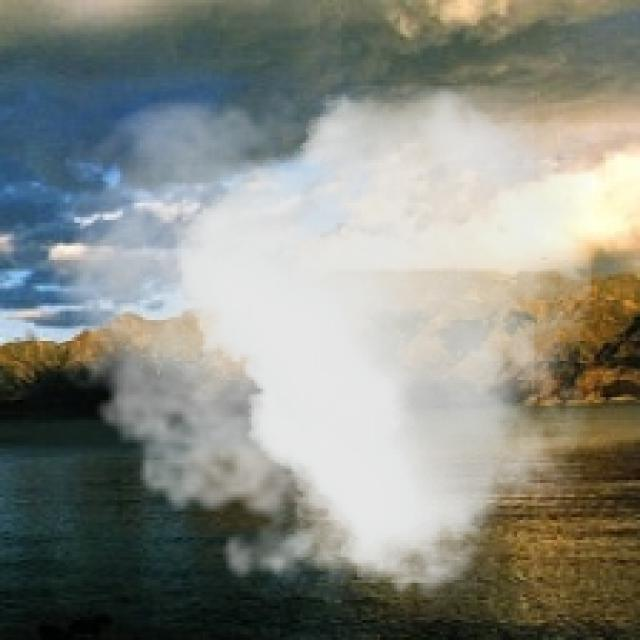smoke: (29, 86, 592, 614)
